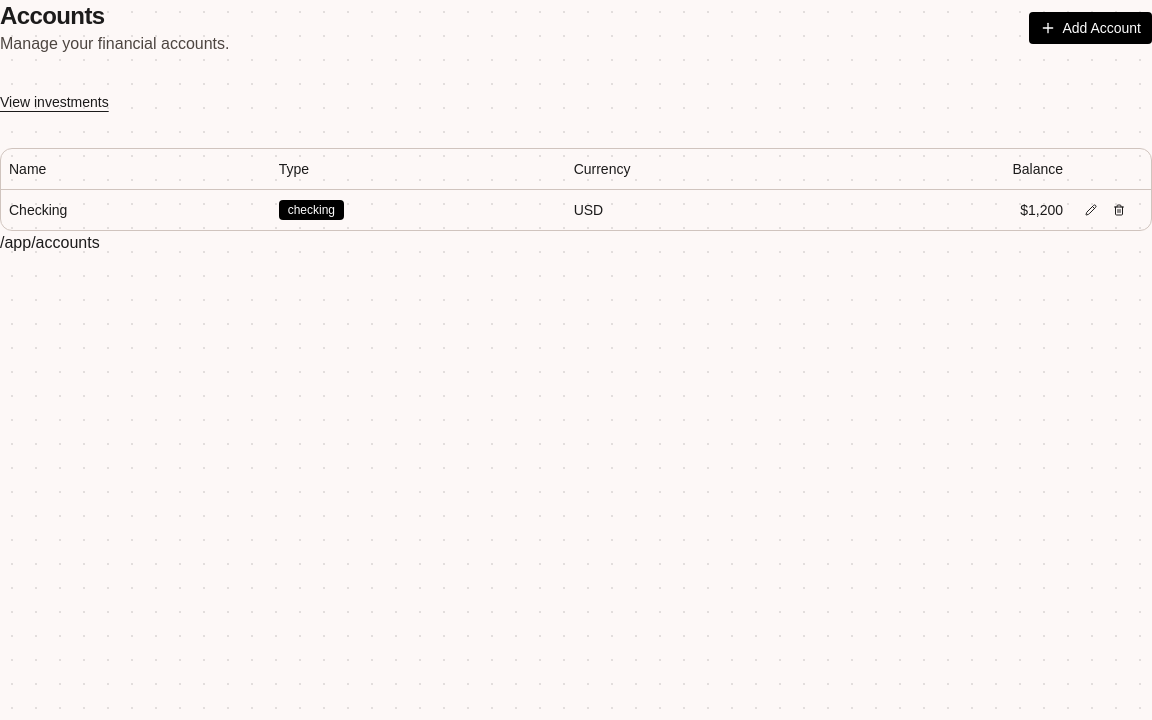
Test: Accounts page — opening balance semantics › keeps the currency field editable when the account has no transactions
Click the button named "Edit Checking": point(1091, 210) [1079,198,1103,222]
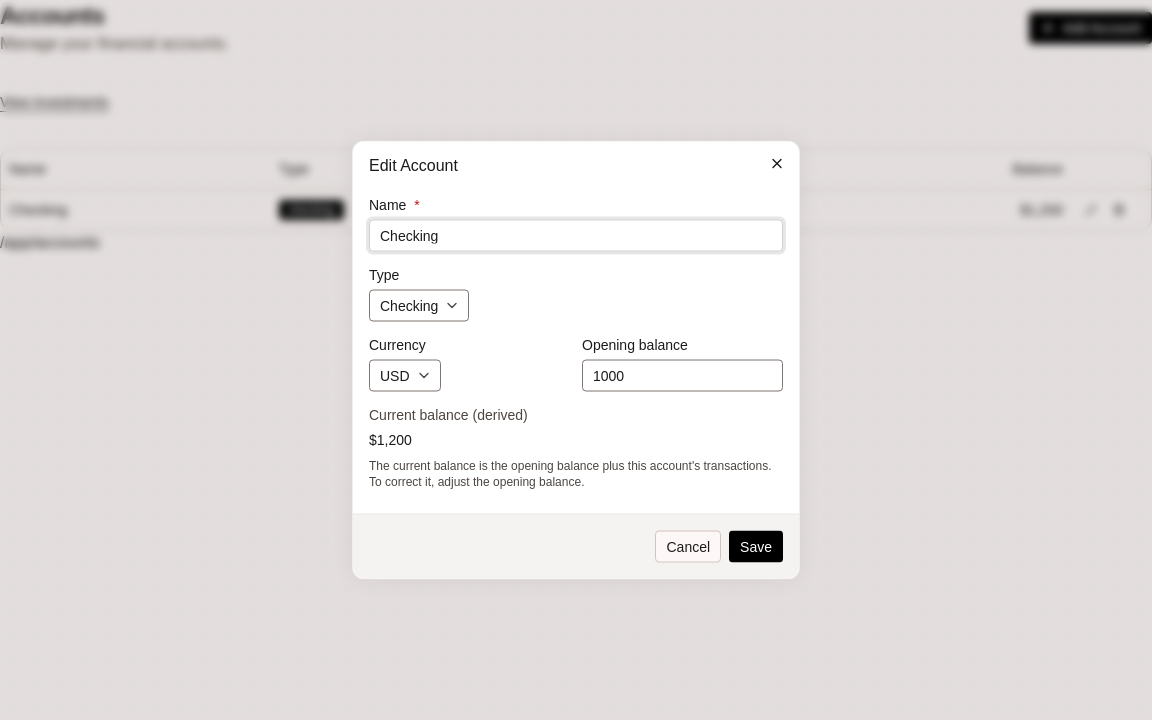
Expected: the number field labelled "Opening balance" is shown, [582,360,783,392]
Expected: the dropdown named "Currency" is enabled, [369,360,441,392]
